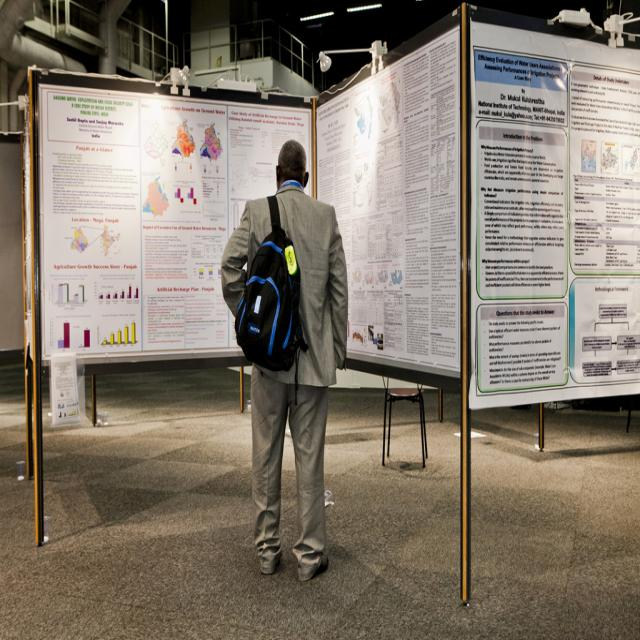backpack: (228, 195, 304, 374)
